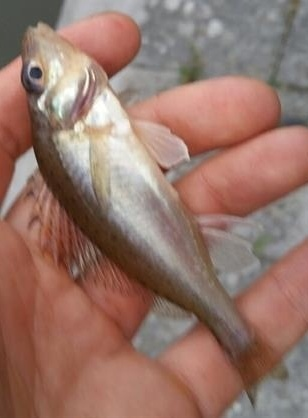Gymnocephalus cernuus: (20, 20, 288, 411)
